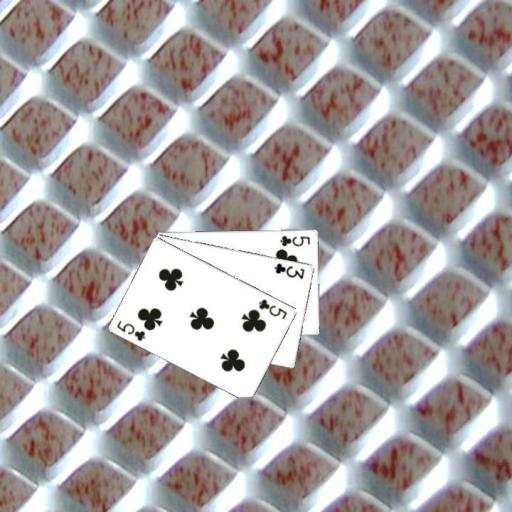card-corner: (114, 317, 147, 343), (256, 296, 289, 321), (272, 260, 306, 280), (278, 232, 312, 248)
